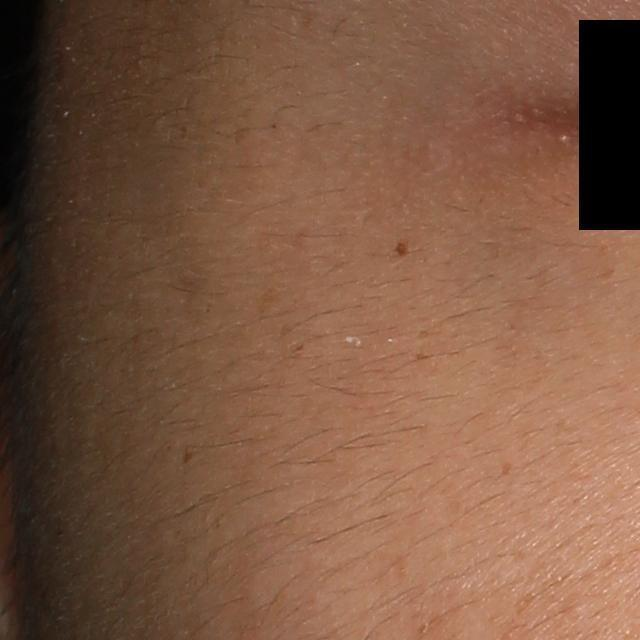nevus: (392, 238, 408, 258)
